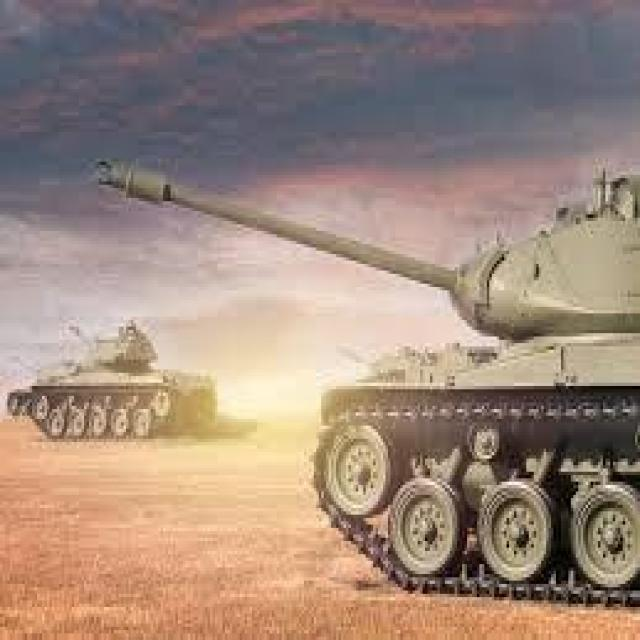MIL_MBT: (98, 48, 577, 628), (11, 266, 236, 536)
